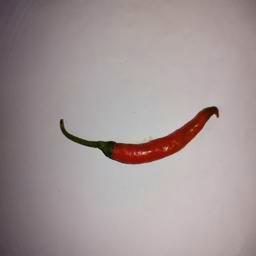Buah Cabai Sehat: (100, 105, 221, 166)
